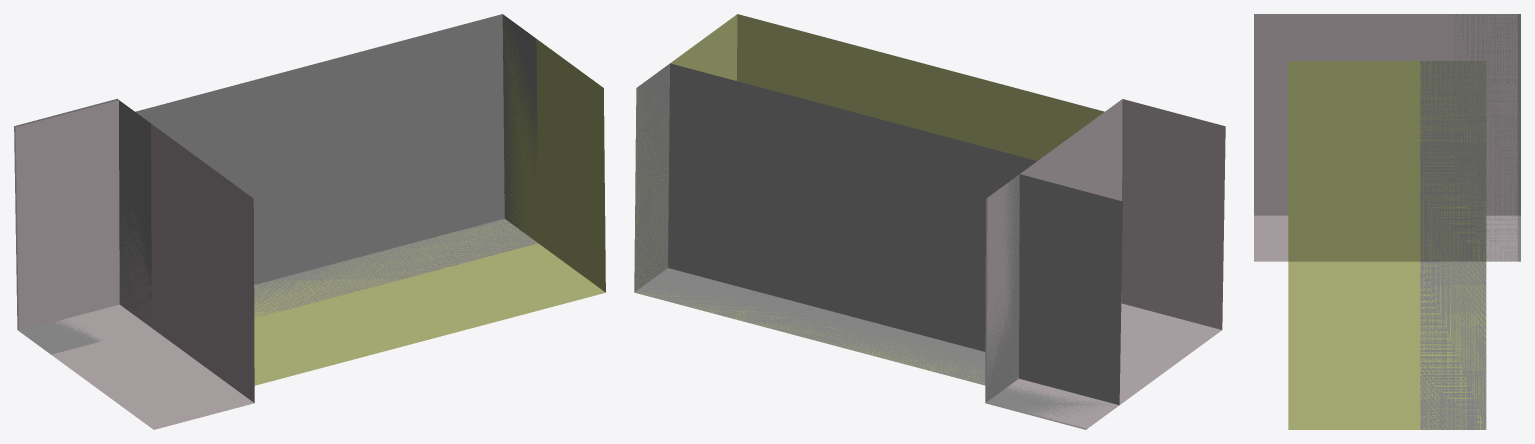
The picture shows the model from 3 angles, left to right: view 1: azimuth 30°, elevation 25°; view 2: azimuth 150°, elevation 25°; view 3: azimuth 270°, elevation 25°; orthographic projection. The views are drawn at different scales.
Parts seen in each view (by area): view 1: 0_1_2_0_3_0_2_2_3_0; view 2: 0_1_2_0_3_0_2_2_3_0; view 3: 0_1_2_0_3_0_2_2_3_0.
Boxes of the visible parts, bbox=[...] form: 0_1_2_0_3_0_2_2_3_0: bbox=[14, 14, 605, 429]; 0_1_2_0_3_0_2_2_3_0: bbox=[634, 14, 1225, 429]; 0_1_2_0_3_0_2_2_3_0: bbox=[1254, 14, 1520, 429].
Bounding box in the file's own units: 24.28 × 10.55 × 12.14.
